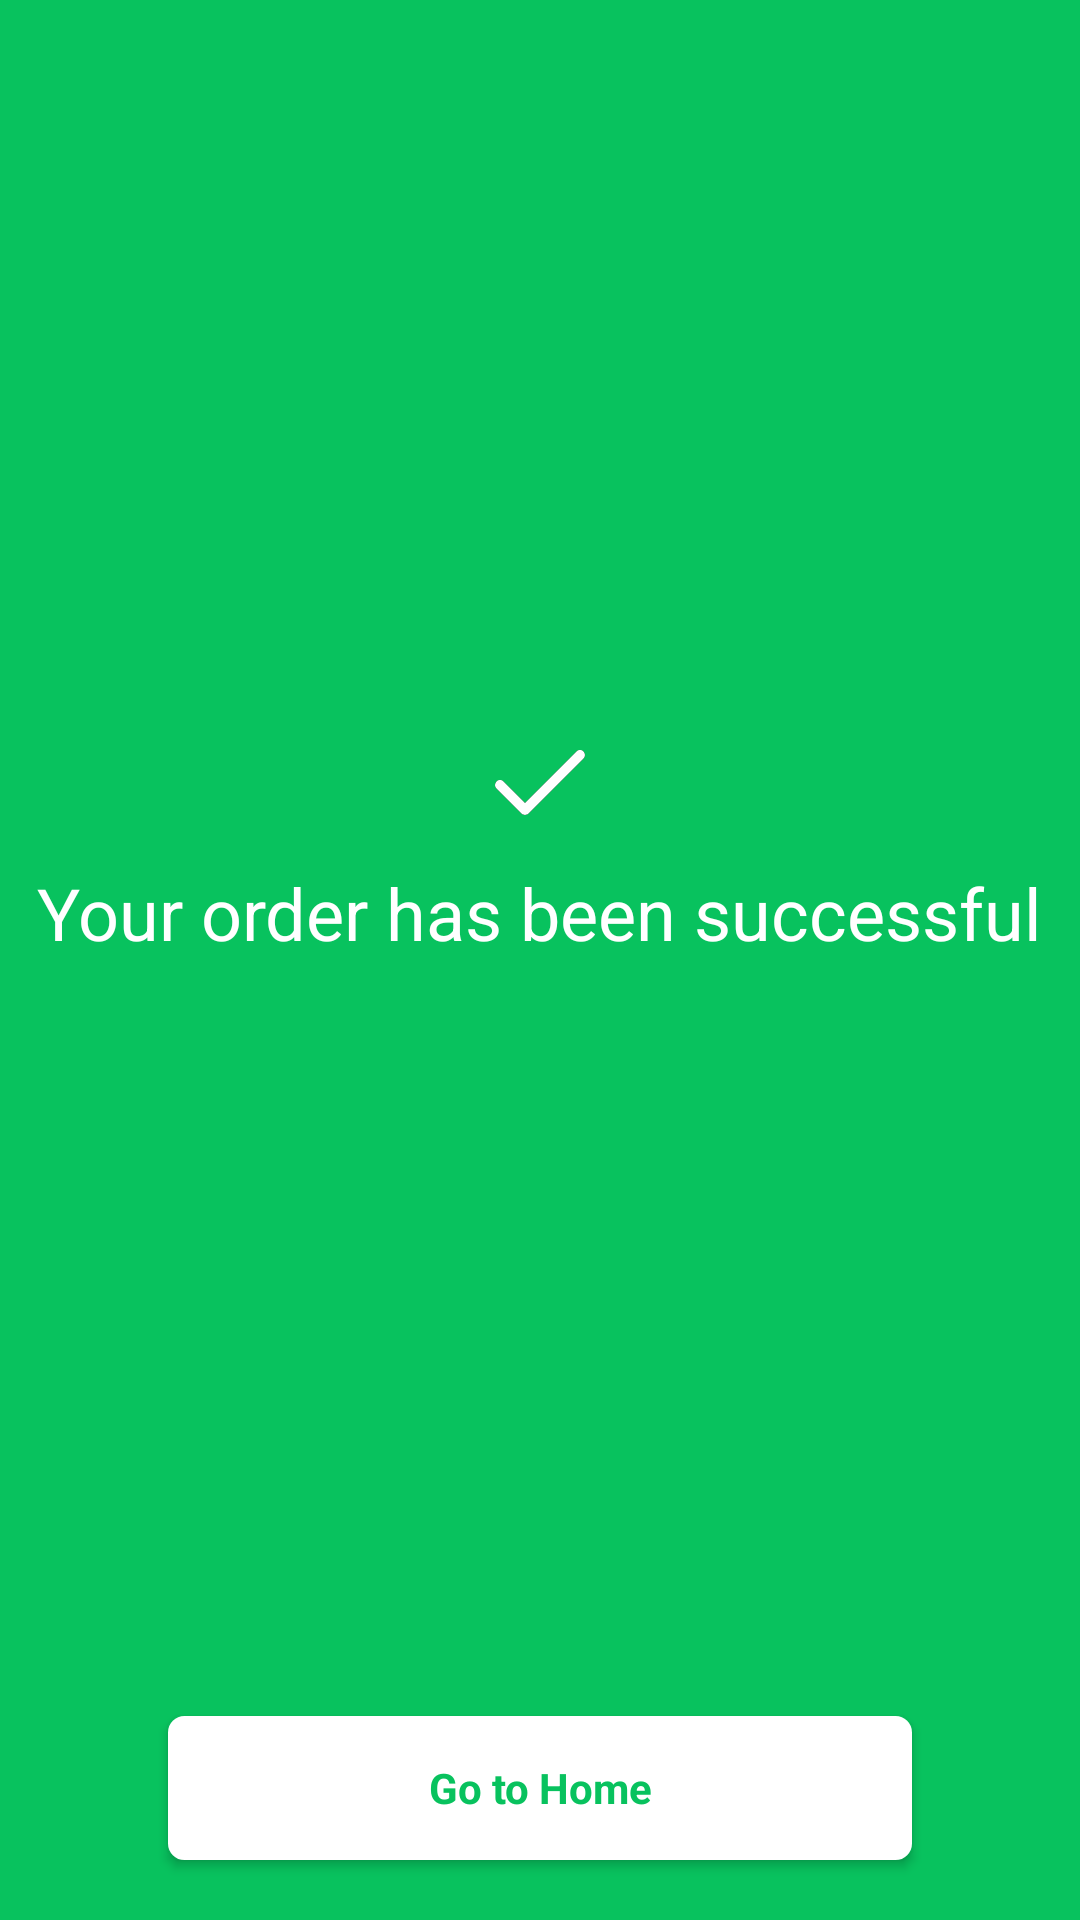

Screen size 1080*1920. Icon name, then its box in pixels as (x1, y1, x2, y2):
check: (495, 750, 585, 815)
